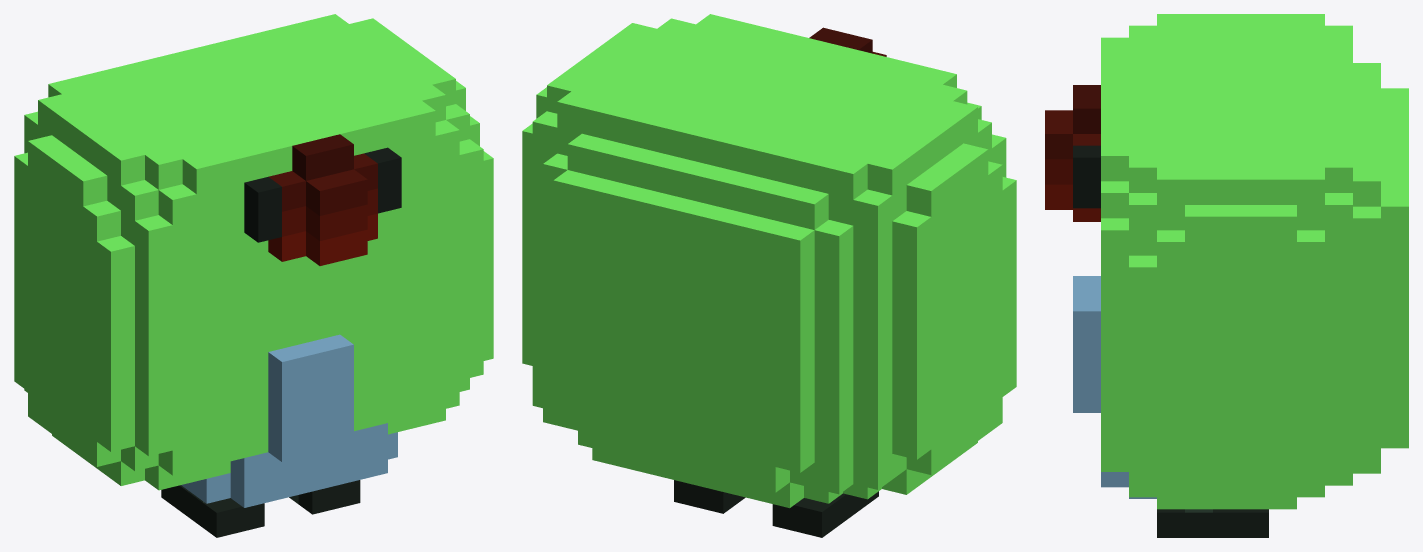
Rendered from scientist01_attack-09.obj.
3 views of the same model, side by side, from view 1: azimuth 30°, elevation 25°; view 2: azimuth 150°, elevation 25°; view 3: azimuth 270°, elevation 25° (orthographic). The views are drawn at different scales.
Size of the model in its own units: 16 by 16 by 13.
Materials: 1 (1 with a texture image).
